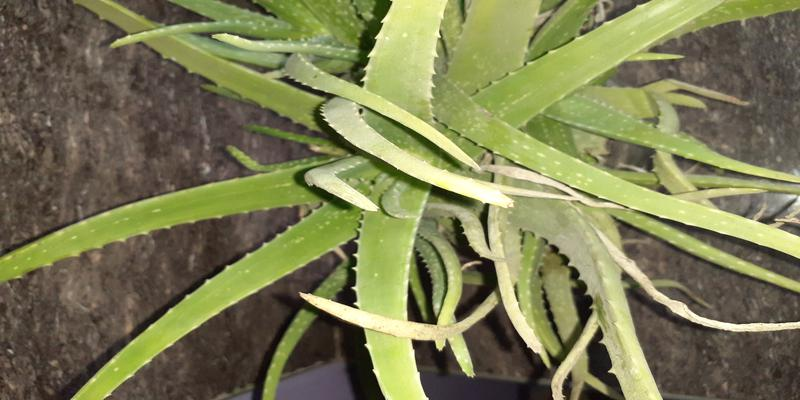Aloevera: (230, 20, 670, 319)
